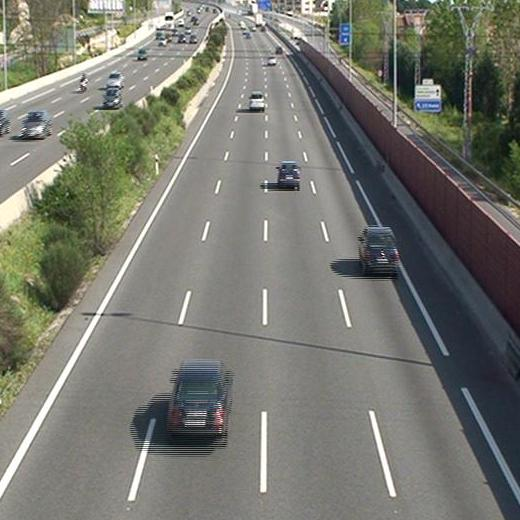car: (167, 361, 230, 434), (358, 227, 398, 274), (277, 161, 300, 187), (249, 91, 264, 110), (266, 55, 276, 66)
